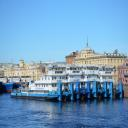tugboat: (11, 65, 76, 104)
